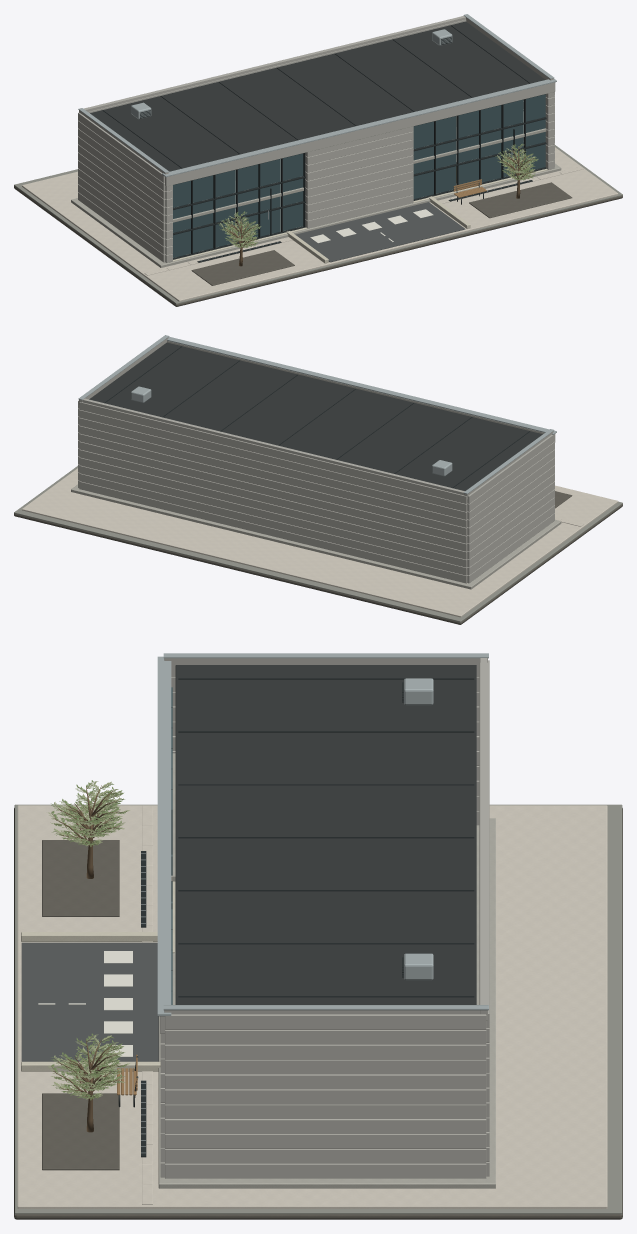
Rendered from industriale-CzCXcC_G.glb.
The picture shows the model from 3 angles, top to bottom: view 1: azimuth 30°, elevation 25°; view 2: azimuth 150°, elevation 25°; view 3: azimuth 270°, elevation 25°; orthographic projection. The views are drawn at different scales.
Parts seen in each view (by area): view 1: phase_finish__membrane, phase_envelope__industrial_panel, phase_envelope__glass, phase_foundation__paving, phase_finish__asphalt, phase_finish__graphite, phase_details__metal, phase_finish__soil, phase_finish__industrial_panel, phase_foundation__gravel, phase_site__soil, phase_foundation__concrete (+8 smaller); view 2: phase_envelope__industrial_panel, phase_finish__membrane, phase_foundation__paving, phase_details__metal, phase_foundation__gravel, phase_foundation__concrete, phase_finish__industrial_panel, phase_site__soil, phase_details__graphite; view 3: phase_finish__membrane, phase_foundation__paving, phase_envelope__industrial_panel, phase_finish__asphalt, phase_foundation__gravel, phase_finish__soil, phase_details__metal, phase_foundation__concrete, phase_finish__industrial_panel, phase_details__graphite, phase_site__soil, phase_details__HF_olive_leaf_silver.001 (+5 smaller).
Part boxes in pixels (<box>): phase_finish__membrane: <box>90,21,545,171</box>; phase_envelope__industrial_panel: <box>78,20,555,262</box>; phase_envelope__glass: <box>173,94,545,257</box>; phase_foundation__paving: <box>22,147,618,301</box>; phase_finish__asphalt: <box>295,202,465,262</box>; phase_finish__graphite: <box>173,94,546,259</box>; phase_details__metal: <box>78,14,556,261</box>; phase_finish__soil: <box>191,182,572,285</box>; phase_finish__industrial_panel: <box>79,16,553,174</box>; phase_foundation__gravel: <box>14,145,622,304</box>; phase_site__soil: <box>14,186,622,306</box>; phase_foundation__concrete: <box>71,150,561,267</box>; phase_envelope__industrial_panel: <box>78,341,555,583</box>; phase_finish__membrane: <box>89,342,542,490</box>; phase_foundation__paving: <box>22,468,618,617</box>; phase_details__metal: <box>78,335,556,494</box>; phase_foundation__gravel: <box>14,466,622,622</box>; phase_foundation__concrete: <box>71,484,561,589</box>; phase_finish__industrial_panel: <box>79,337,553,499</box>; phase_site__soil: <box>14,504,622,624</box>; phase_details__graphite: <box>104,346,529,488</box>; phase_finish__membrane: <box>175,665,476,1004</box>; phase_foundation__paving: <box>17,805,607,1208</box>; phase_envelope__industrial_panel: <box>160,660,489,1178</box>; phase_finish__asphalt: <box>21,942,158,1061</box>; phase_foundation__gravel: <box>14,804,622,1214</box>; phase_finish__soil: <box>42,840,119,1170</box>; phase_details__metal: <box>141,653,488,1153</box>; phase_foundation__concrete: <box>158,818,495,1188</box>; phase_finish__industrial_panel: <box>164,658,487,1020</box>; phase_details__graphite: <box>141,678,474,1157</box>; phase_site__soil: <box>14,808,622,1219</box>; phase_details__HF_olive_leaf_silver.001: <box>47,781,129,1099</box>.
Bounding box in the file's own units: 16.2 × 3.6 × 10.2.
Materials: 18 (5 with a texture image).
